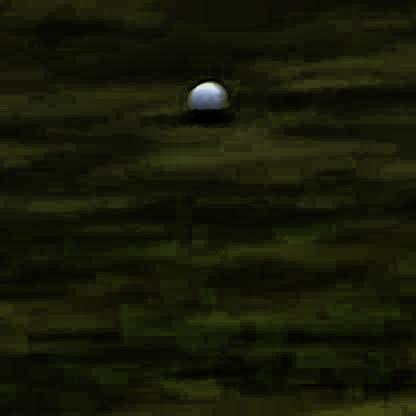golfball: (186, 76, 228, 120)
